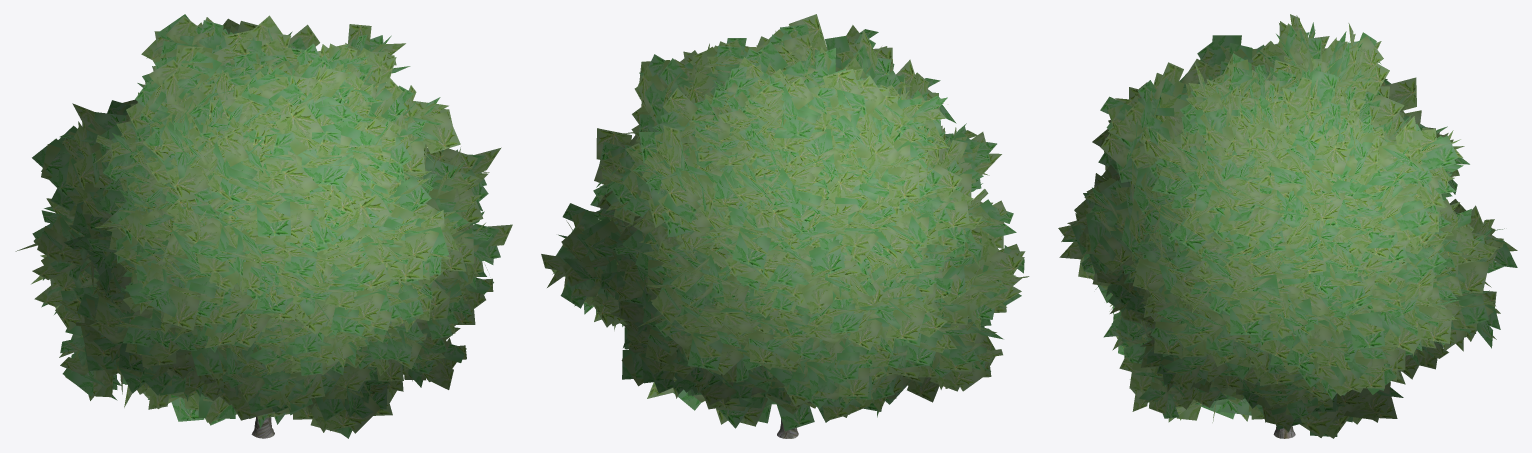
The model's file is silver_maple.glb.
The picture shows the model from 3 angles, left to right: view 1: azimuth 30°, elevation 25°; view 2: azimuth 150°, elevation 25°; view 3: azimuth 270°, elevation 25°; orthographic projection. The views are drawn at different scales.
Parts seen in each view (by area): view 1: LeavesA, LeavesB; view 2: LeavesA, LeavesB; view 3: LeavesA, LeavesB.
Boxes of the visible parts, box(x1,y1,x2,y2) form: LeavesA: box(15, 15, 512, 433); LeavesB: box(32, 14, 500, 438); LeavesA: box(541, 14, 1029, 426); LeavesB: box(556, 24, 1024, 431); LeavesA: box(1058, 14, 1517, 438); LeavesB: box(1062, 22, 1517, 436).
Bounding box in the file's own units: 7.49 × 6.71 × 7.17.
4 materials, 3 textured.
